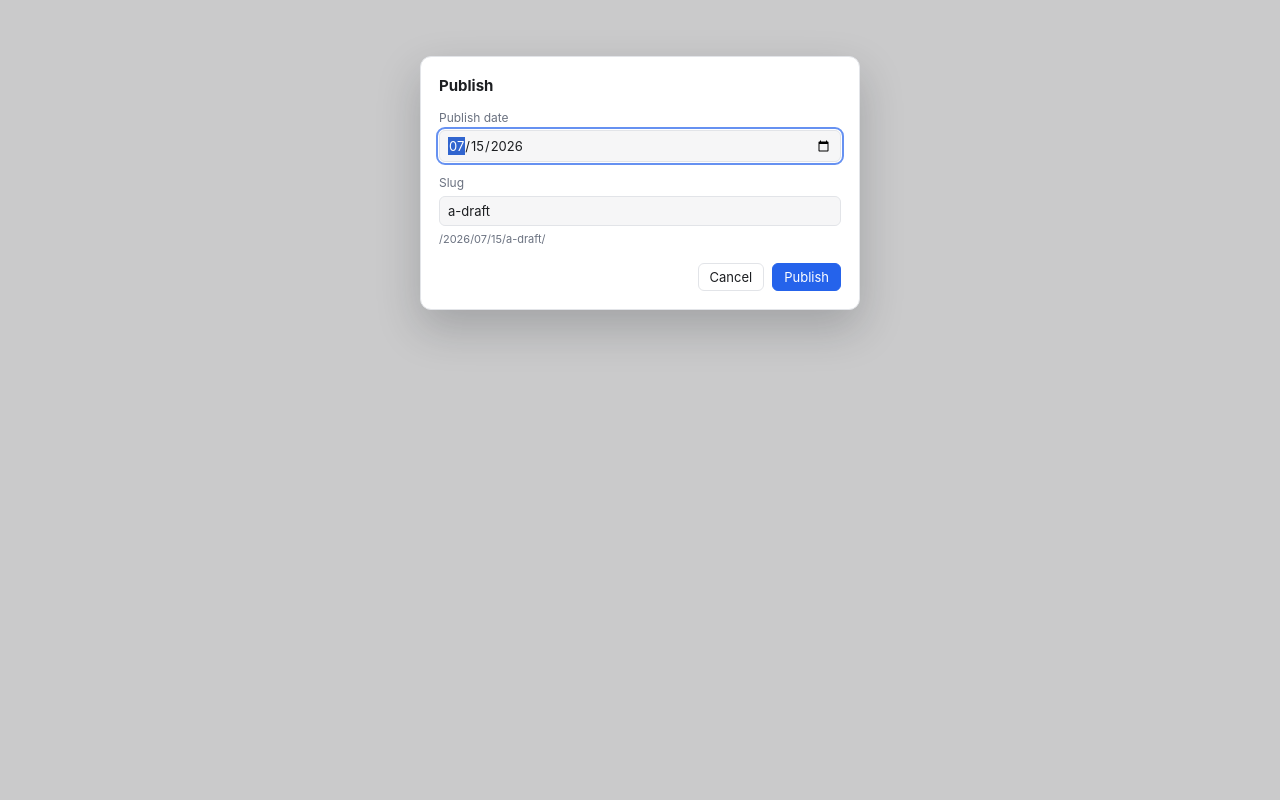
Test case: PublishDialog — slug validation gates Publish › re-enables Publish once an invalid slug is corrected
Replace the text in the field labelled "Slug" with "bad slug": [640, 210] box [439, 196, 841, 226]
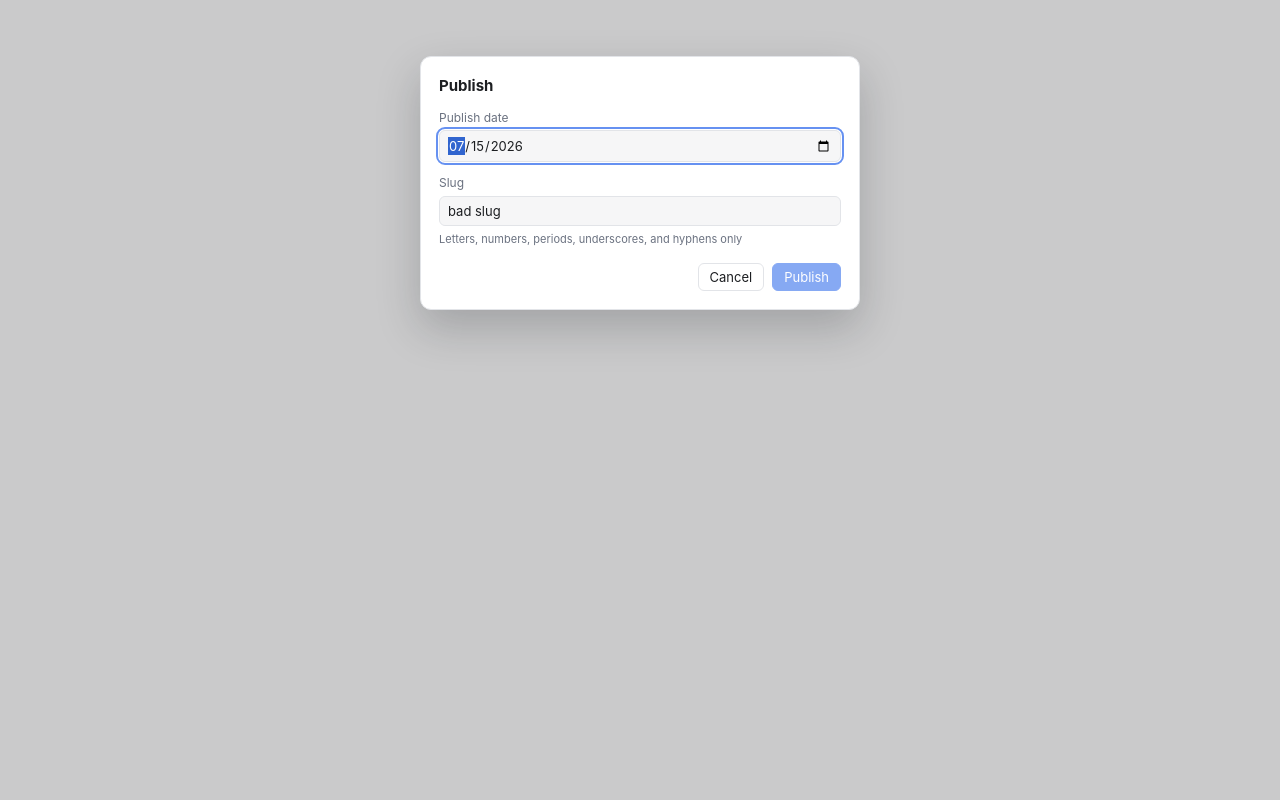
Replace the text in the field labelled "Slug" with "good-slug": [640, 210] box [439, 196, 841, 226]
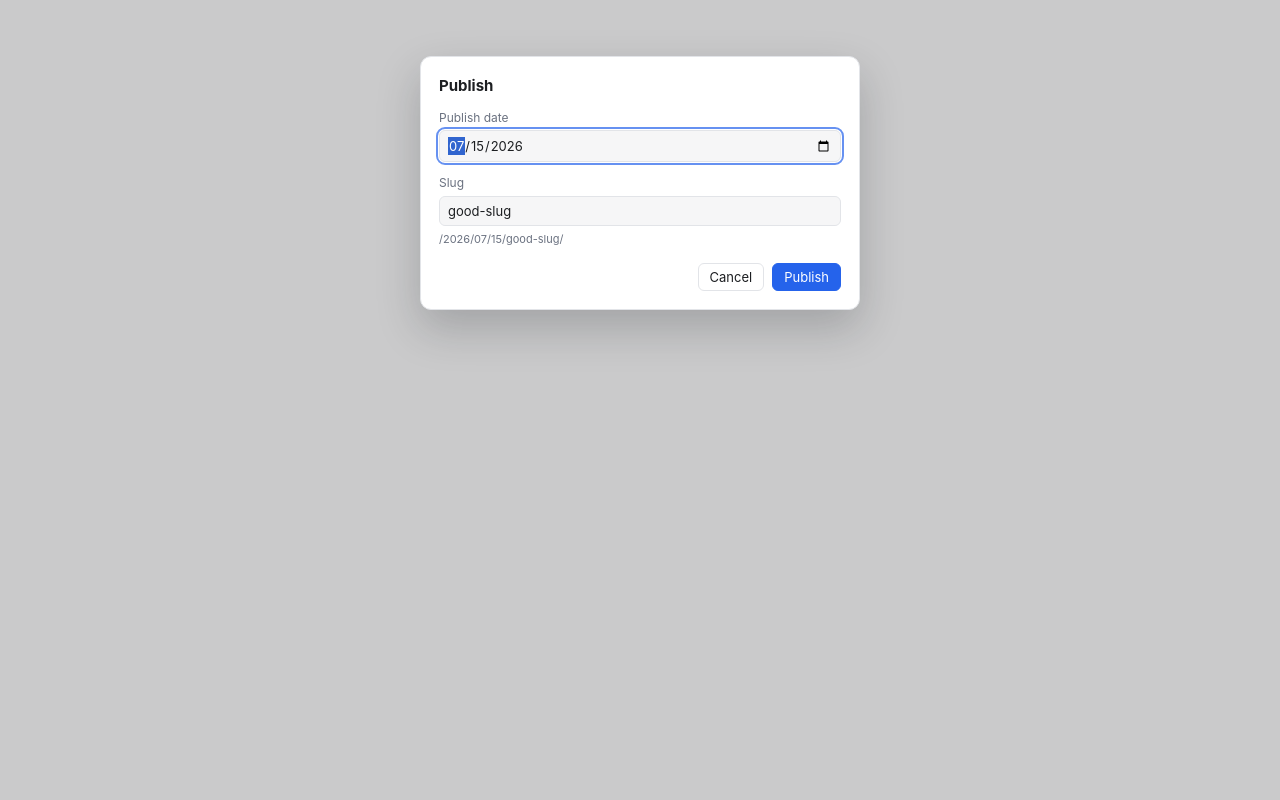
Check: the button "Publish" is enabled, box [772, 264, 841, 292]
